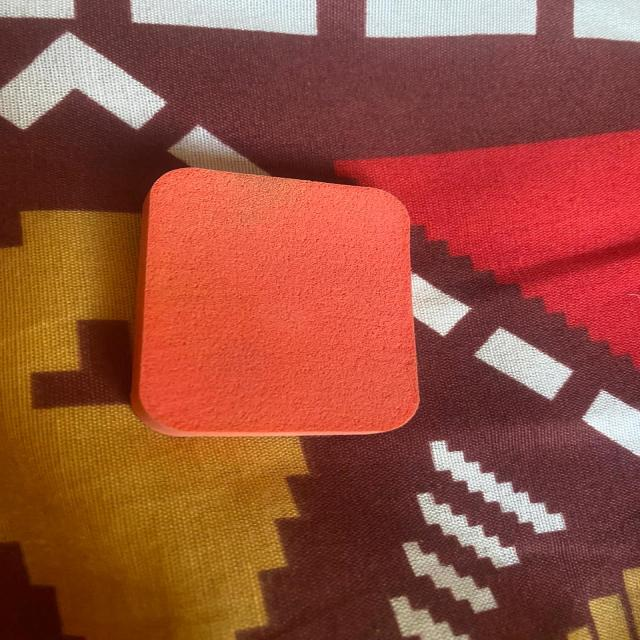beauty blender: (122, 150, 433, 474)
